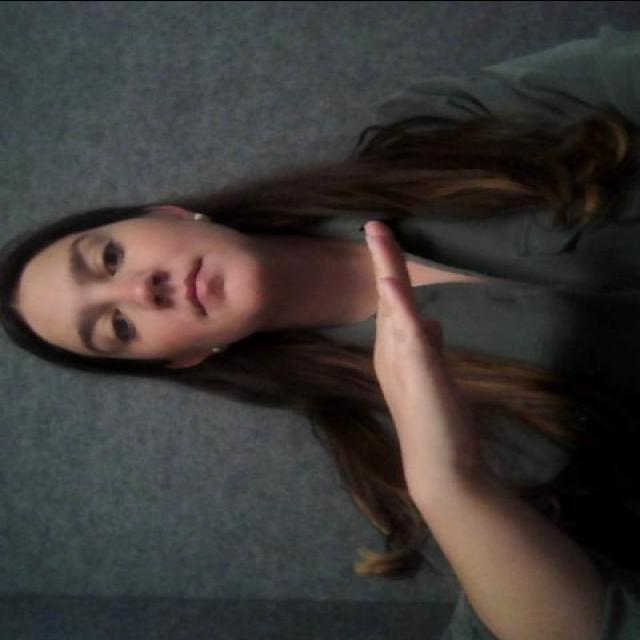Paper: (350, 222, 470, 457)
